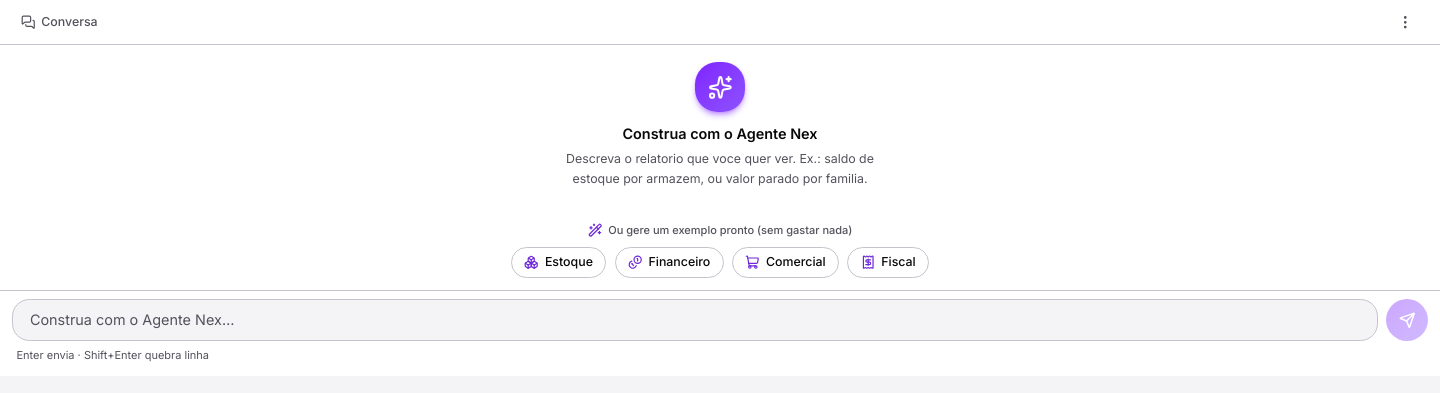
it: BuilderChatPanel › abre o menu de 3 pontos com Limpar conversa e Baixar .txt
Click the button named "mais opcoes": (1405, 22) top-left (1390, 8), bottom-right (1419, 37)
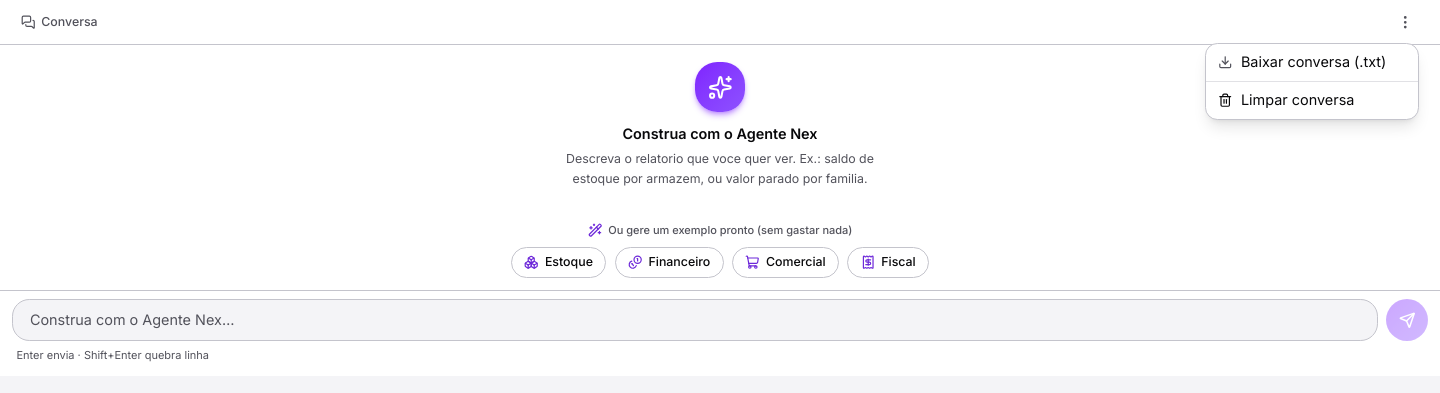
Expected: the menu item "Limpar conversa" is shown, top-left (1206, 81), bottom-right (1418, 119)
Expected: the menu item "Baixar conversa (.txt)" is shown, top-left (1206, 44), bottom-right (1418, 81)
